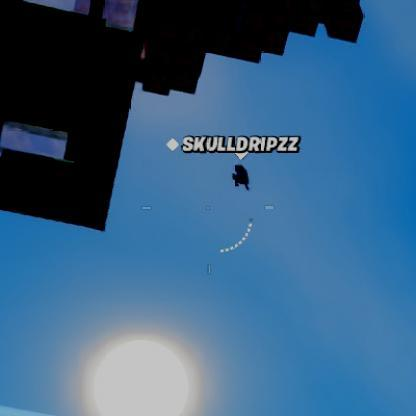person: (228, 160, 250, 195)
